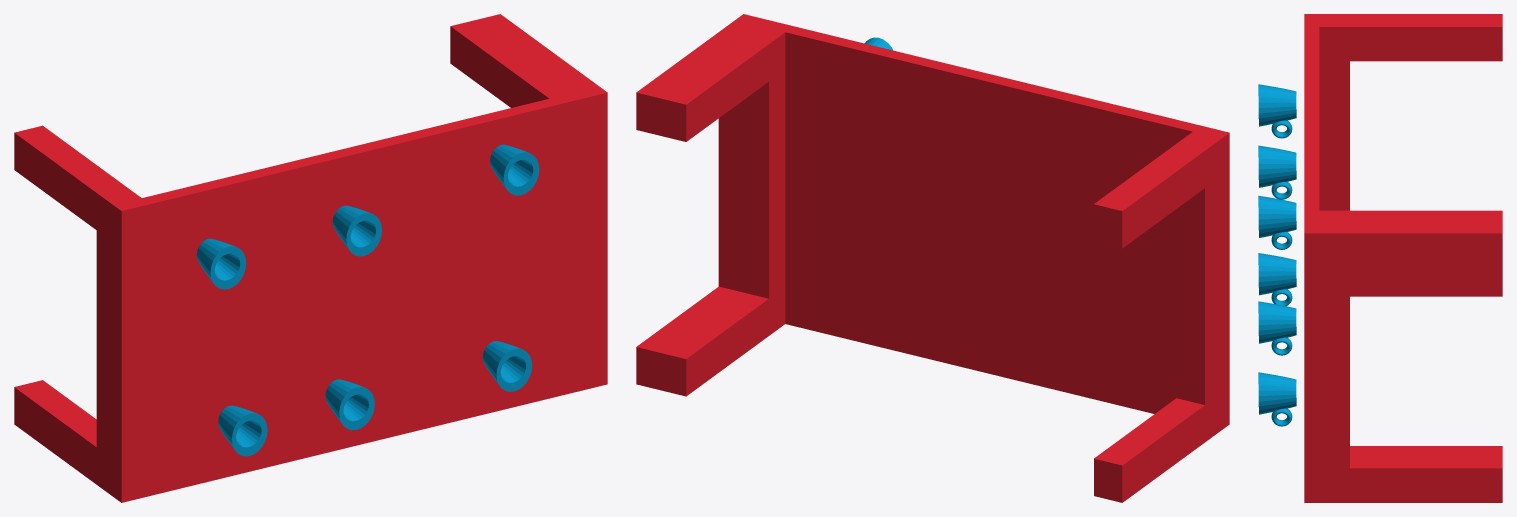
File: tinker.obj
3 views of the same model, side by side, from view 1: azimuth 30°, elevation 25°; view 2: azimuth 150°, elevation 25°; view 3: azimuth 270°, elevation 25° (orthographic). The views are drawn at different scales.
Visible parts, largest first — view 1: group_0_15277357, group_0_40919; view 2: group_0_15277357; view 3: group_0_15277357, group_0_40919.
Boxes of the visible parts, <box> form: group_0_15277357: <box>14,14,607,502</box>; group_0_40919: <box>196,144,539,456</box>; group_0_15277357: <box>636,14,1229,502</box>; group_0_15277357: <box>1304,14,1502,502</box>; group_0_40919: <box>1258,84,1296,426</box>.
Size of the model in its own units: 68 by 39 by 32.
